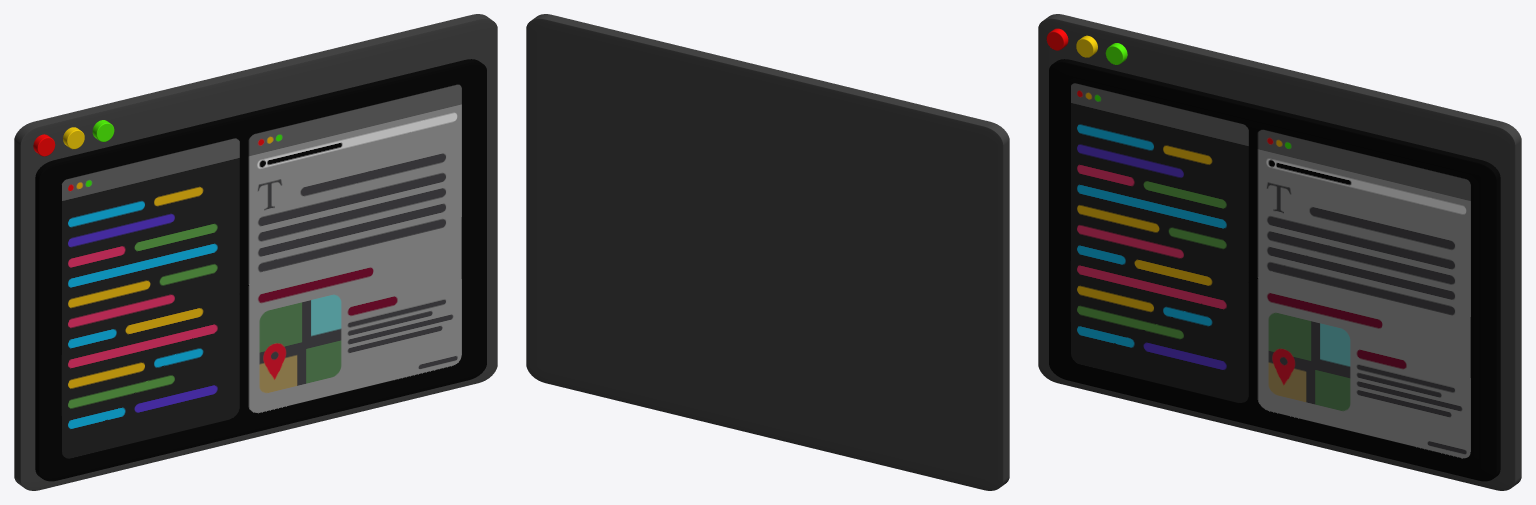
Rendered from web.glb.
3 views of the same model, side by side, from view 1: azimuth 30°, elevation 25°; view 2: azimuth 150°, elevation 25°; view 3: azimuth 330°, elevation 25° (orthographic).
Parts seen in each view (by area): view 1: Box 2, Box, Box 1; view 2: Box; view 3: Box 2, Box, Box 1.
Part boxes in pixels (x1=…): Box 2: x1=57, y1=78, x2=469, y2=463; Box: x1=14, y1=14, x2=497, y2=490; Box 1: x1=35, y1=59, x2=486, y2=481; Box: x1=526, y1=14, x2=1009, y2=490; Box 2: x1=1066, y1=78, x2=1478, y2=463; Box: x1=1038, y1=14, x2=1521, y2=490; Box 1: x1=1049, y1=59, x2=1500, y2=481.
Bounding box in the file's own units: 0.162 × 0.118 × 0.00649.
6 materials, 1 textured.
